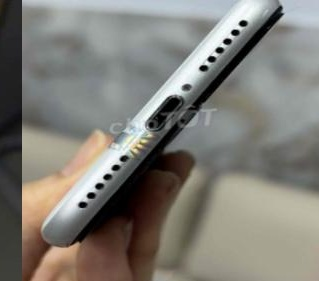scratch: (230, 0, 280, 20)
